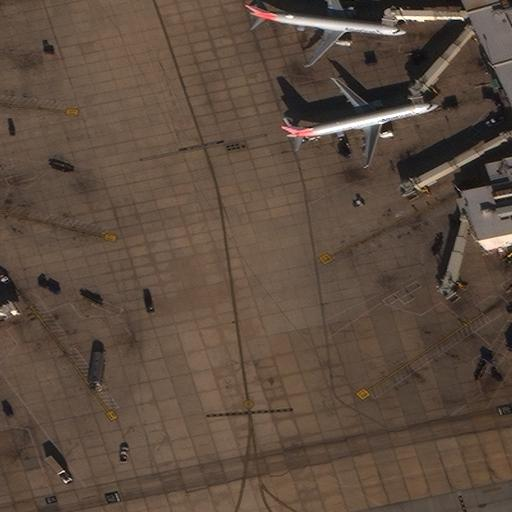Medium Civil Transport: (280, 78, 438, 166), (245, 0, 406, 66)
